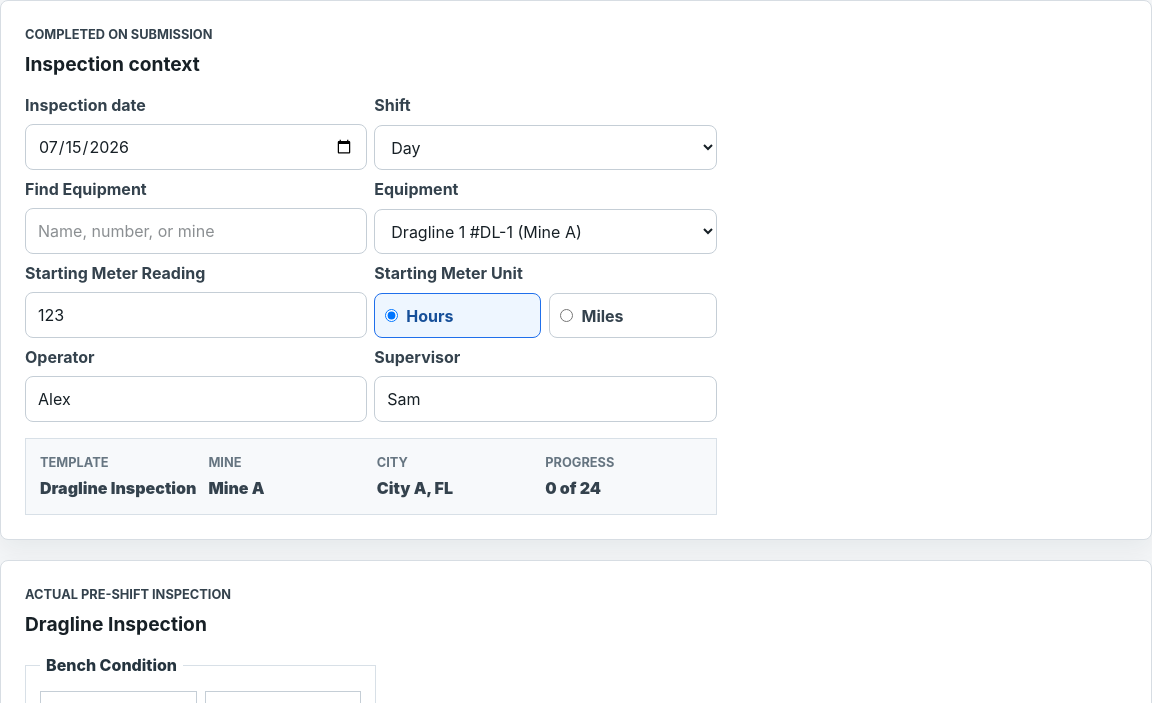
Test: OperationalSafetyChecklistForm › communicates a meter-unit correction and re-evaluates mismatch confirmation
Click the radio button labelled "Miles" at [567, 316], box [560, 309, 574, 322]
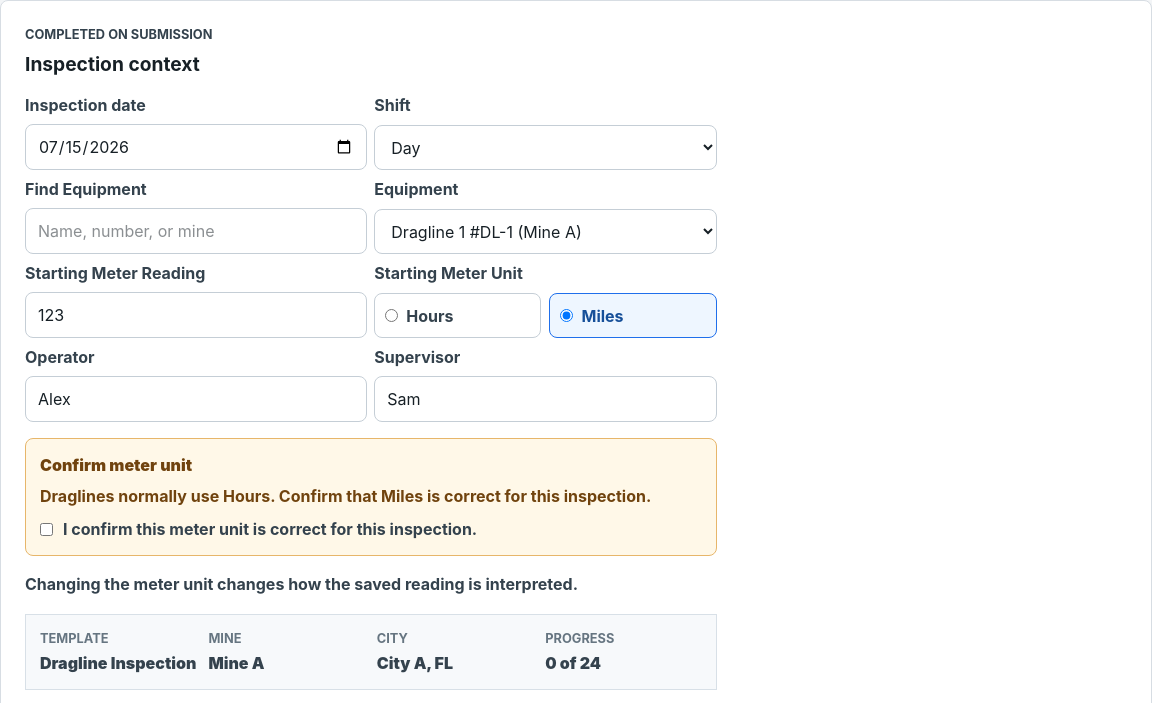
expect the message "Changing the meter unit changes how the saved reading is interpreted." is shown: met, box [25, 574, 578, 594]
expect the checkbox labelled "I confirm this meter unit is correct for this inspection." is shown: met, box [40, 522, 53, 536]
